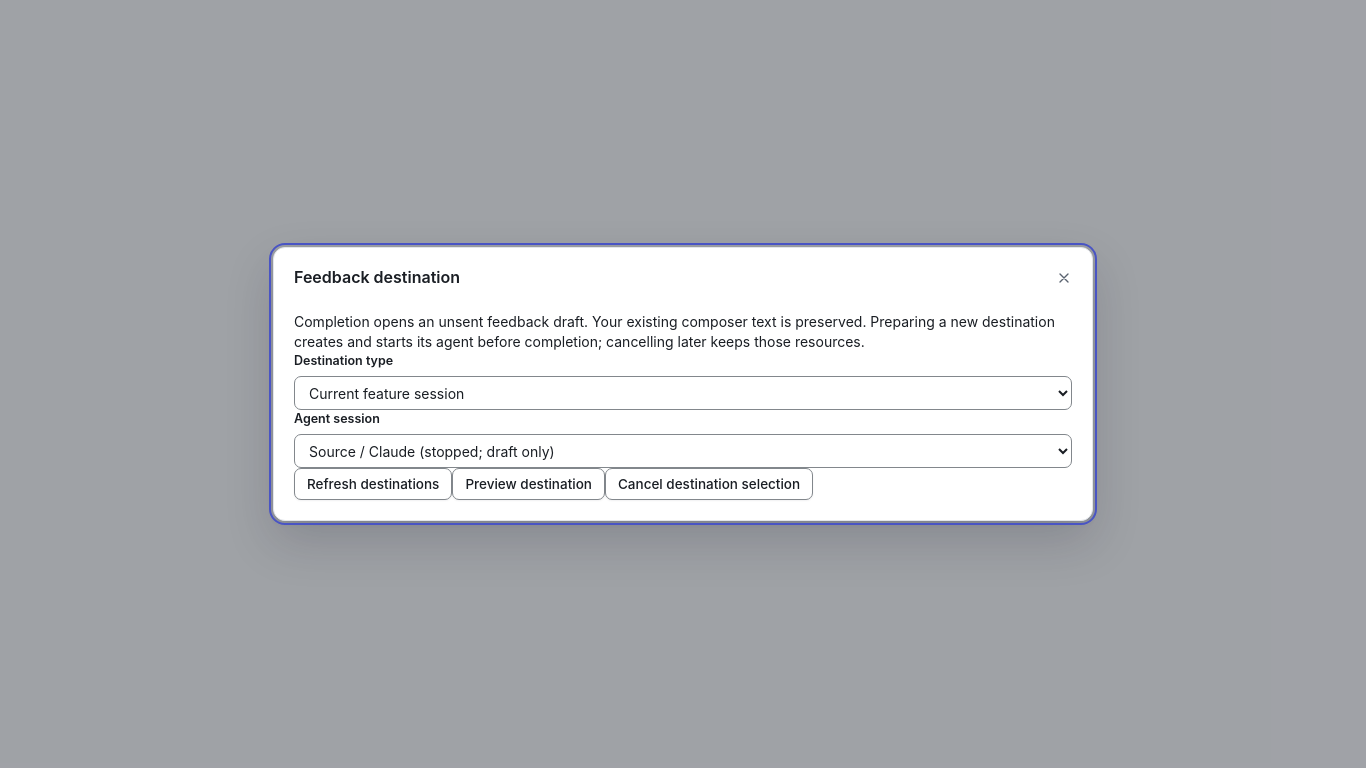
replays initial deferred catalog loading safely in StrictMode
Select "New companion worktree" in the dropdown labelled "Destination type". click: point(683, 393)
box: [294, 376, 1072, 410]
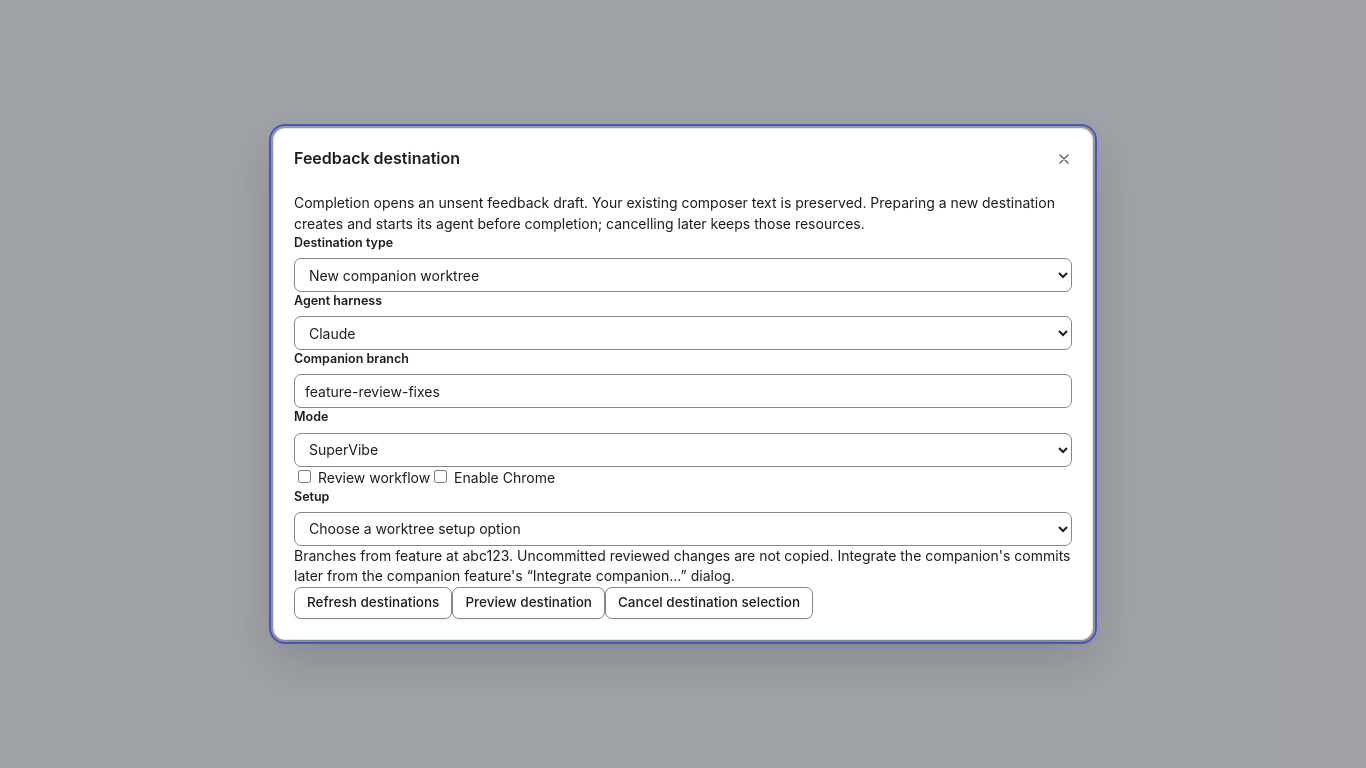
Now the field labelled "Companion branch" holds "feature-review-fixes", box [294, 374, 1072, 408]
